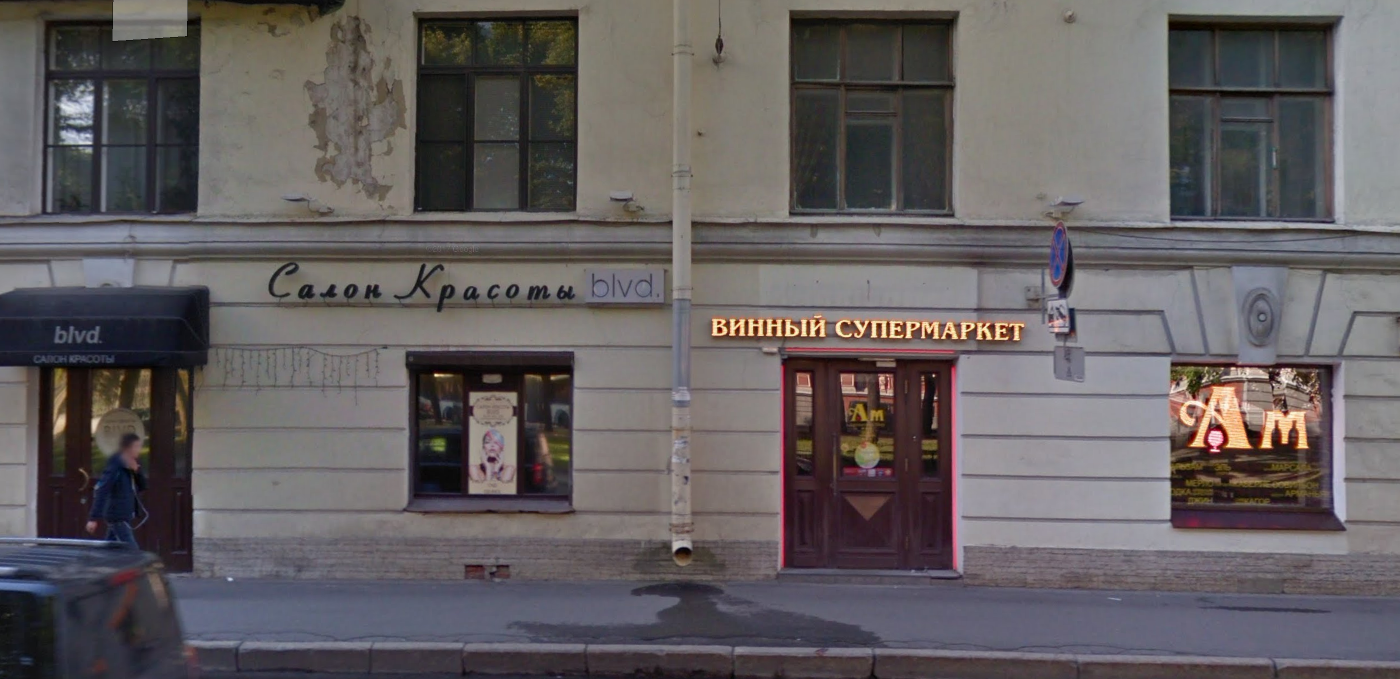door: (781, 348, 956, 577), (34, 361, 193, 577)
signboard: (258, 247, 670, 309), (710, 302, 1029, 346)
window: (1163, 10, 1337, 225), (410, 10, 579, 211), (784, 10, 950, 214), (41, 19, 199, 215), (1171, 359, 1344, 530), (409, 350, 577, 512)
